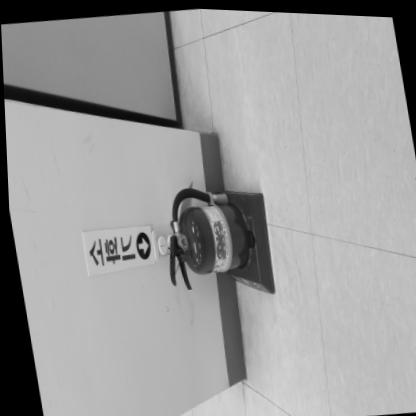FE: (152, 177, 275, 305)
